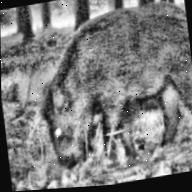boar: (24, 0, 192, 180)
